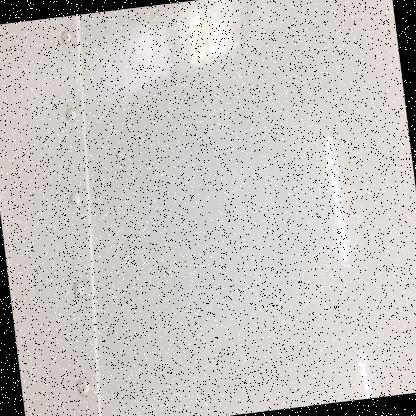Nocrack: (0, 0, 409, 410)
